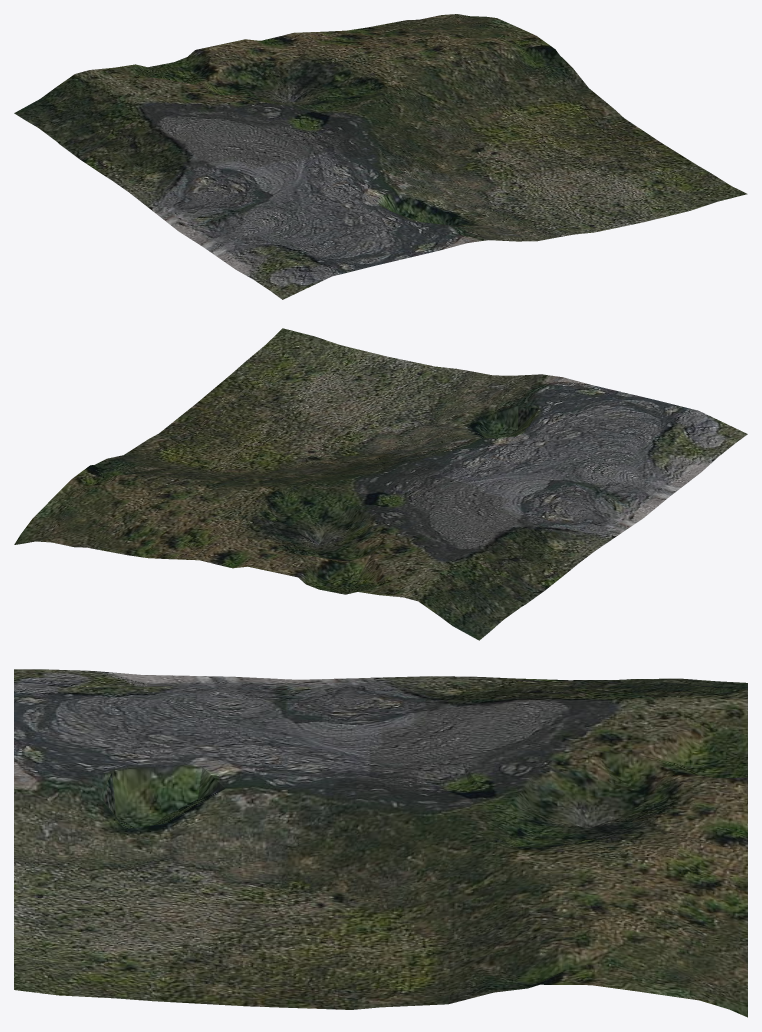
File: map_15_8178_13780.dae
3 views of the same model, one above another, from view 1: azimuth 30°, elevation 25°; view 2: azimuth 150°, elevation 25°; view 3: azimuth 270°, elevation 25° (orthographic). The views are drawn at different scales.
Parts seen in each view (by area): view 1: Ter0; view 2: Ter0; view 3: Ter0.
Boxes of the visible parts, x1,y1,x2,y2 form: Ter0: [14, 14, 747, 299]; Ter0: [14, 328, 747, 640]; Ter0: [14, 669, 747, 1017].
Bounding box in the file's own units: 63.88 × 63.88 × 5.63.
3 materials, 3 textured.
